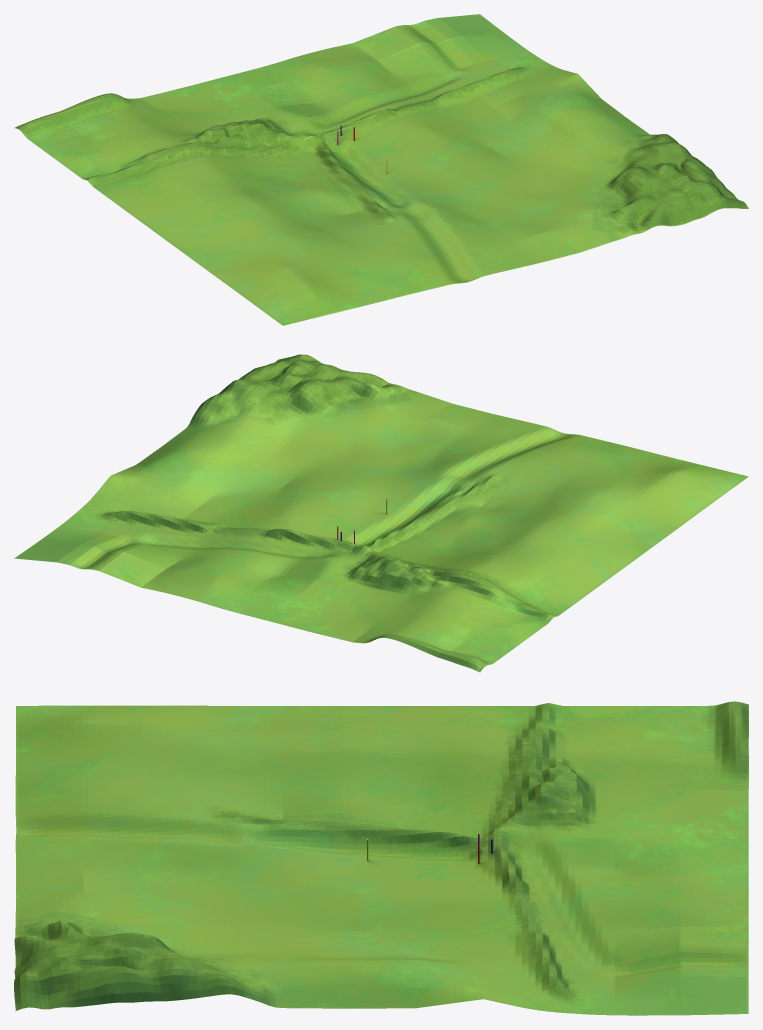
The model's file is takashi_data_extraction.gltf.
3 views of the same model, one above another, from view 1: azimuth 30°, elevation 25°; view 2: azimuth 150°, elevation 25°; view 3: azimuth 270°, elevation 25° (orthographic). The views are drawn at different scales.
Parts seen in each view (by area): view 1: Plane; view 2: Plane; view 3: Plane.
Boxes of the visible parts, x1,y1,x2,y2 form: Plane: (14,14,748,325); Plane: (14,354,748,672); Plane: (14,701,748,1015).
Bounding box in the file's own units: 997 × 64.32 × 995.
Materials: 1 (1 with a texture image).
